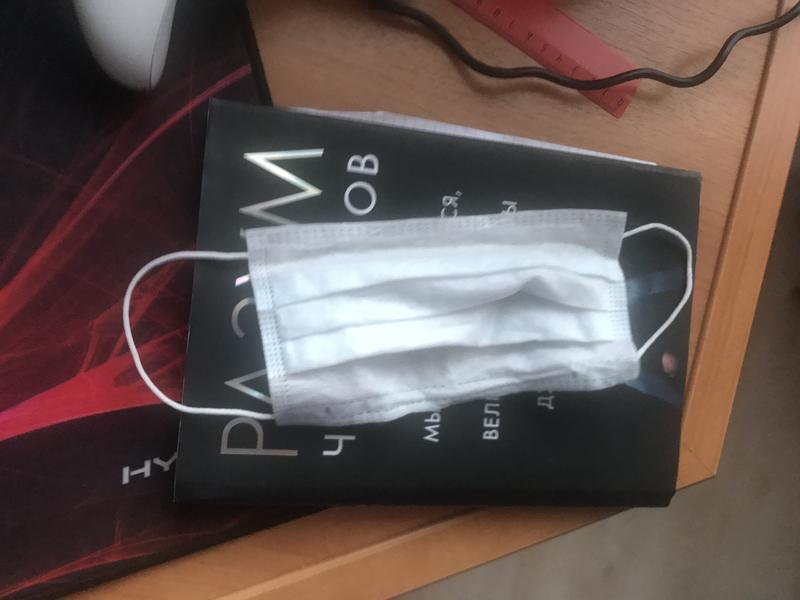medical_mask: (125, 218, 695, 424)
